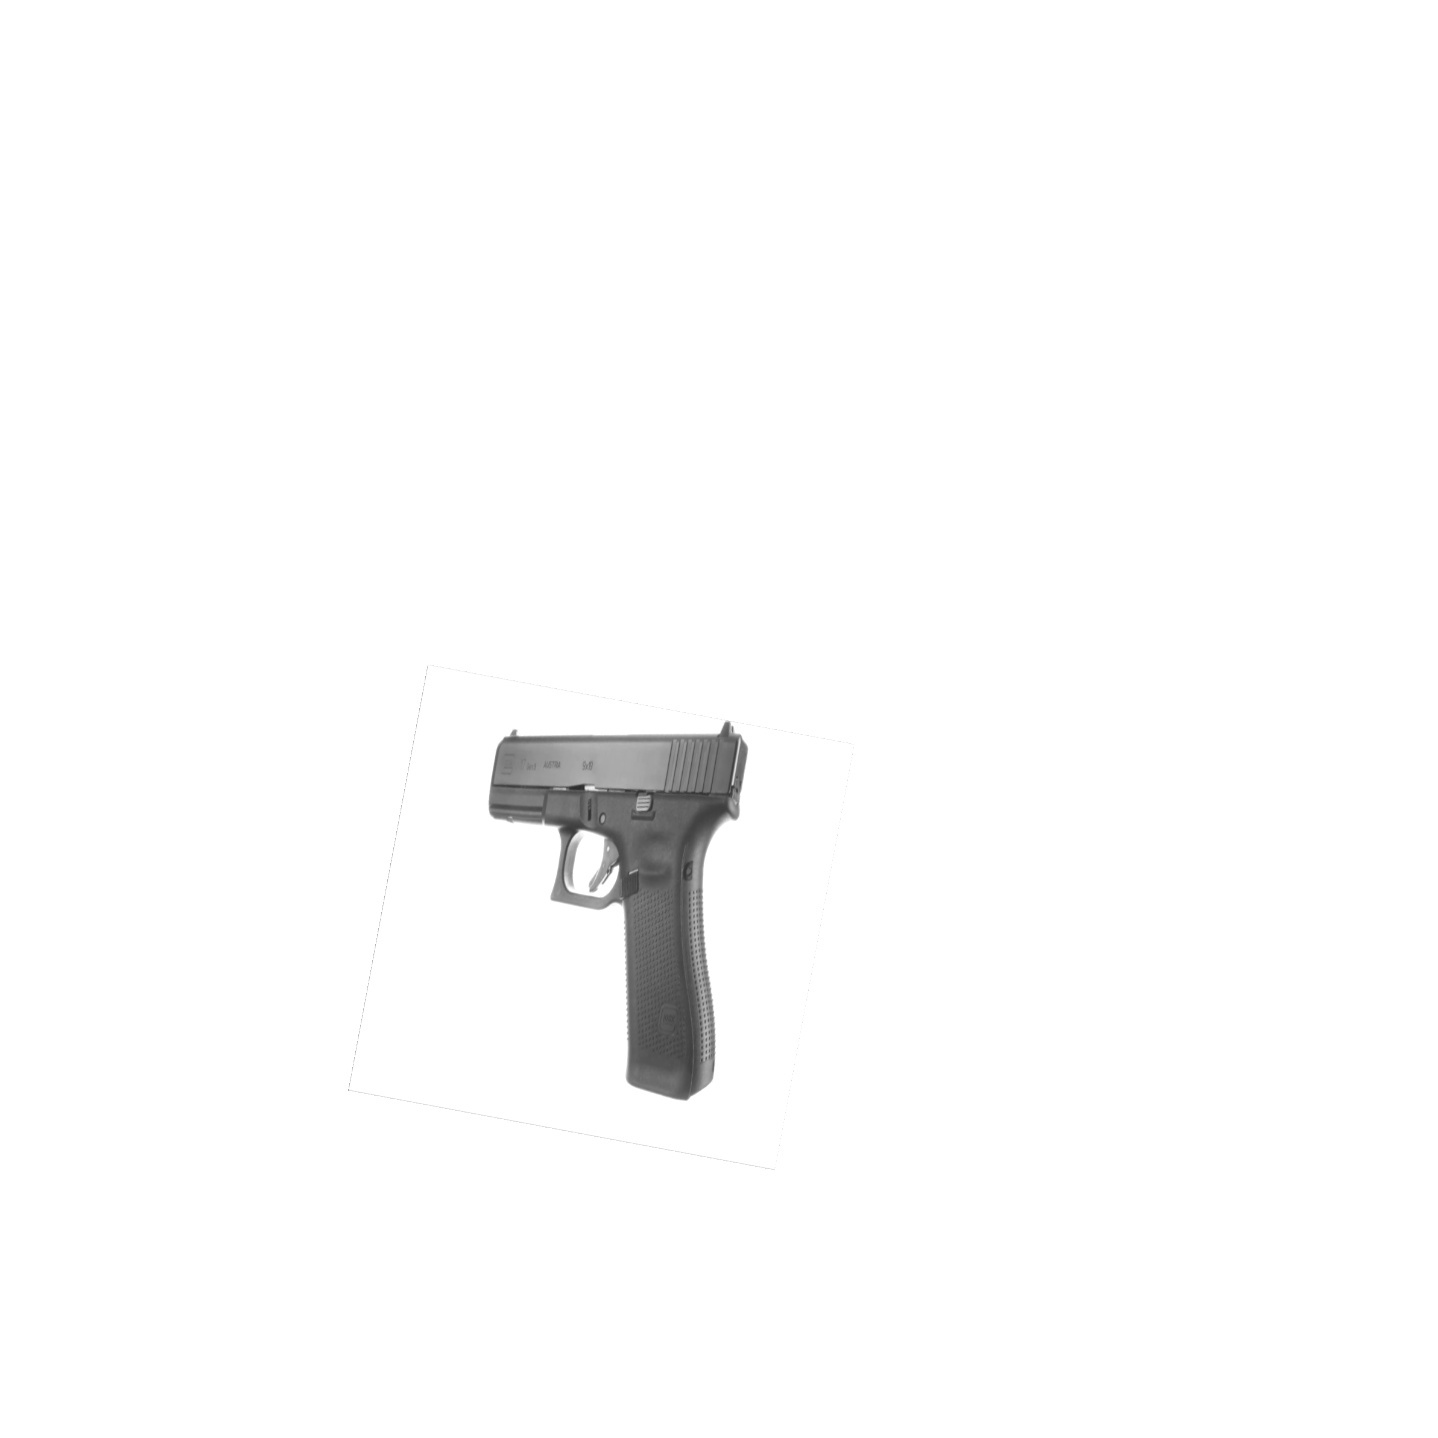gun: (481, 716, 751, 1106)
